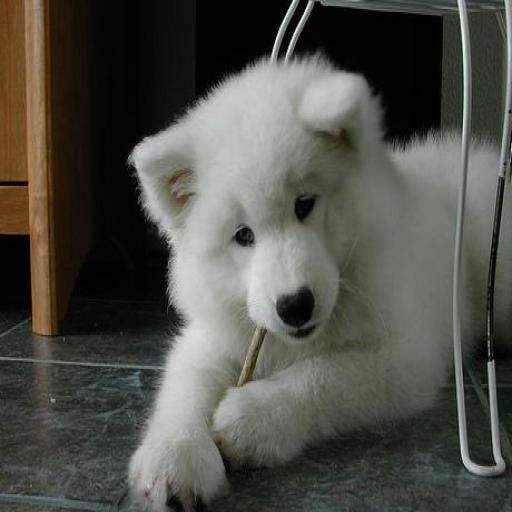dog_face: (134, 67, 369, 350)
